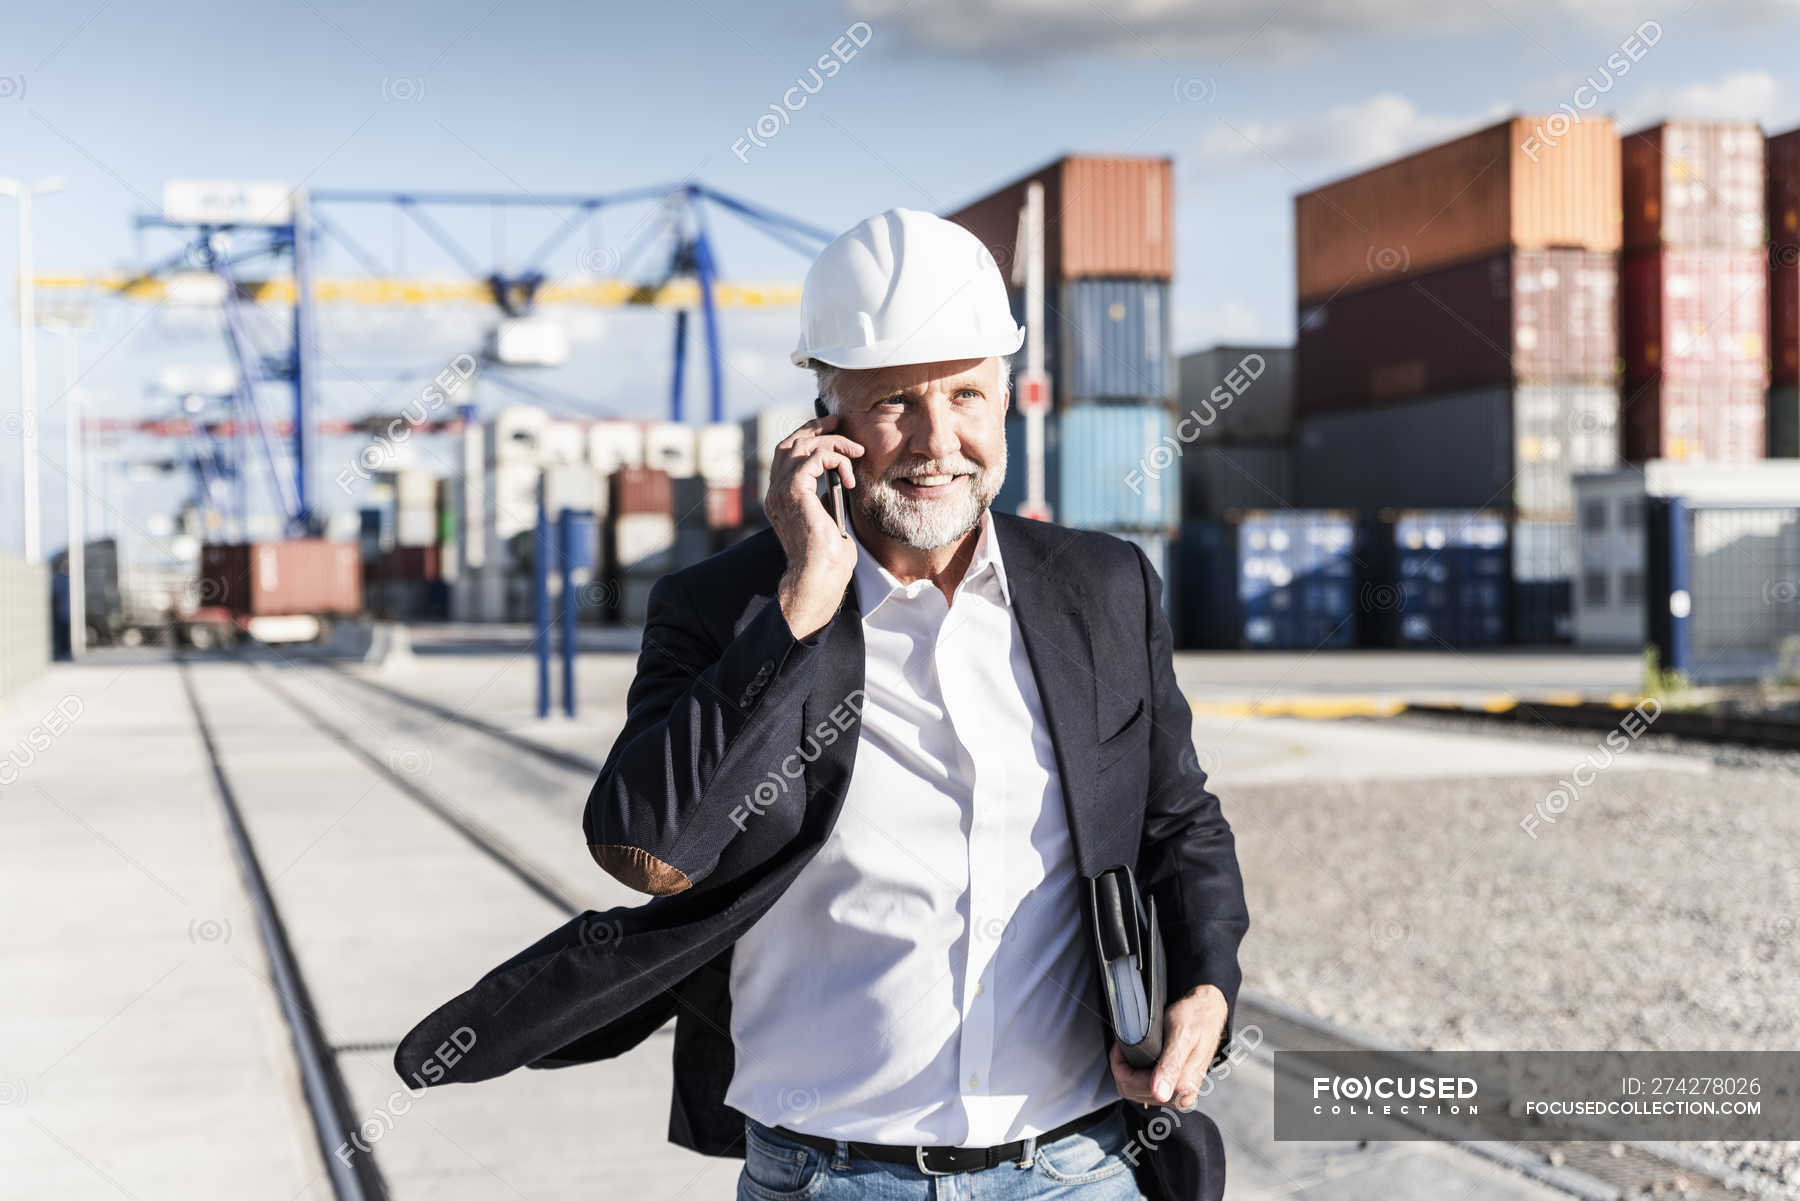Person_wearing_helmet: (776, 188, 1030, 424)
